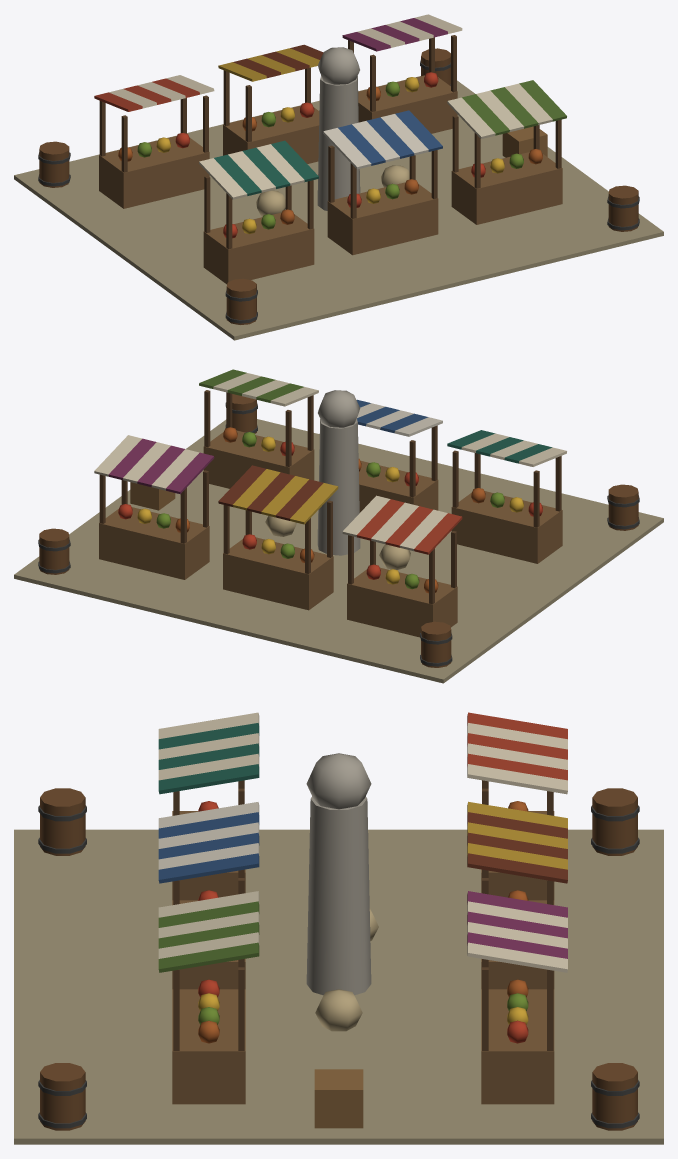
The model's file is procedural_market@4.glb.
The picture shows the model from 3 angles, top to bottom: view 1: azimuth 30°, elevation 25°; view 2: azimuth 150°, elevation 25°; view 3: azimuth 270°, elevation 25°; orthographic projection. The views are drawn at different scales.
Visible parts, largest first — view 1: part_0; view 2: part_0; view 3: part_0.
Boxes of the visible parts, x1,y1,x2,y2 form: part_0: (14,14,663,340); part_0: (14,369,663,683); part_0: (14,712,663,1144).
Size of the model in its own units: 9 by 3.2 by 8.
